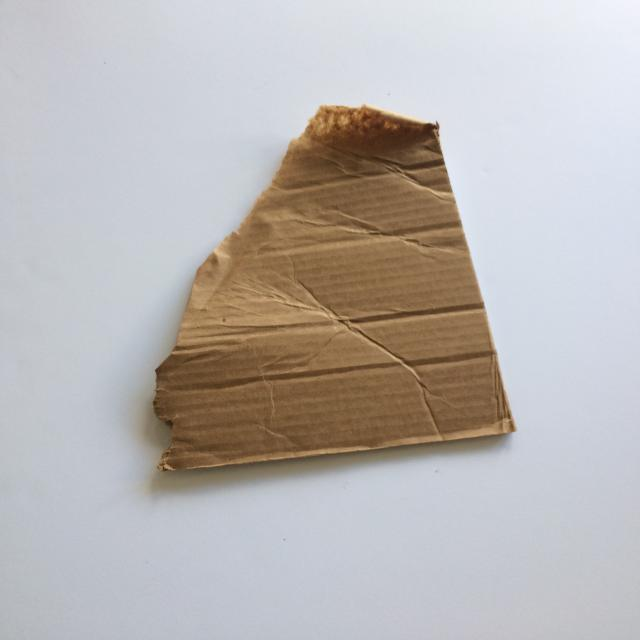cardboard: (151, 103, 517, 472)
